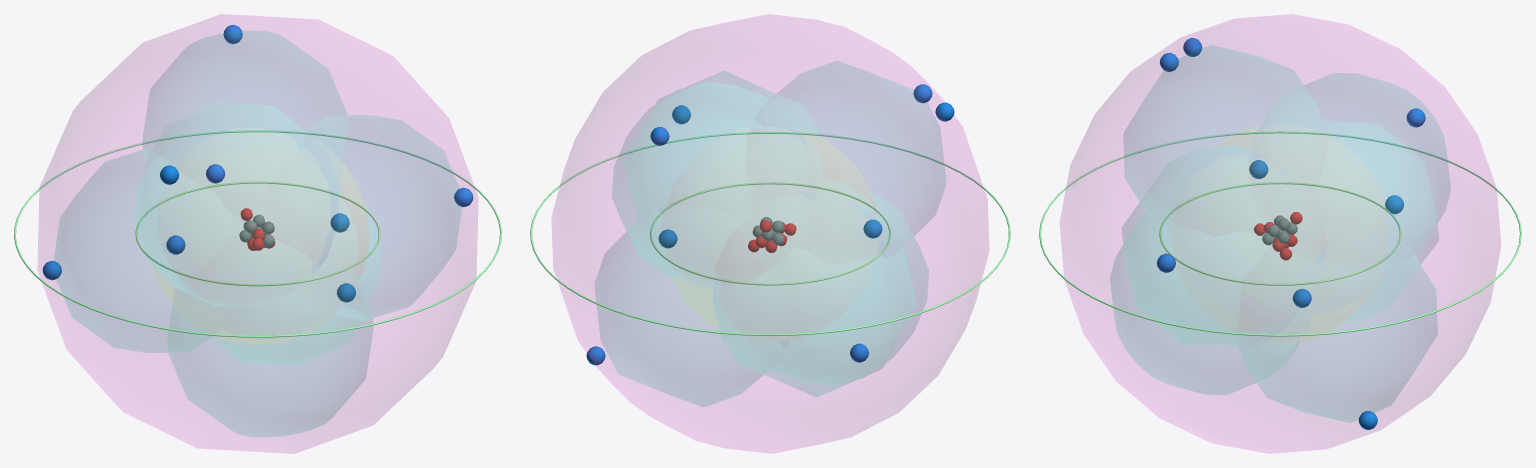
3 renders of one model, left to right at view 1: azimuth 30°, elevation 25°; view 2: azimuth 150°, elevation 25°; view 3: azimuth 270°, elevation 25°, orthographic.
Visible parts, largest first — view 1: Orbital_2s_0, Orbital_2p_0, Orbital_2p_2, Orbital_2p_1, Nivel_n2, Orbital_1s_0, Nivel_n1; view 2: Orbital_2s_0, Orbital_2p_1, Orbital_2p_2, Orbital_2p_0, Nivel_n2, Orbital_1s_0, Nivel_n1; view 3: Orbital_2s_0, Orbital_2p_1, Orbital_2p_2, Orbital_2p_0, Nivel_n2, Nivel_n1, Orbital_1s_0.
Boxes of the visible parts, <box> form: Orbital_2s_0: <box>37,14,478,453</box>; Orbital_2p_0: <box>54,115,461,352</box>; Orbital_2p_2: <box>143,31,372,436</box>; Orbital_2p_1: <box>134,103,338,306</box>; Nivel_n2: <box>14,130,501,337</box>; Orbital_1s_0: <box>152,162,368,344</box>; Nivel_n1: <box>135,181,380,286</box>; Orbital_2s_0: <box>551,14,989,453</box>; Orbital_2p_1: <box>595,61,945,406</box>; Orbital_2p_2: <box>612,82,928,377</box>; Orbital_2p_0: <box>655,71,916,396</box>; Nivel_n2: <box>530,132,1010,335</box>; Orbital_1s_0: <box>672,131,876,329</box>; Nivel_n1: <box>650,182,890,285</box>; Orbital_2s_0: <box>1060,14,1500,453</box>; Orbital_2p_1: <box>1123,45,1437,422</box>; Orbital_2p_2: <box>1110,73,1450,394</box>; Orbital_2p_0: <box>1122,145,1438,347</box>; Nivel_n2: <box>1039,131,1521,336</box>; Nivel_n1: <box>1159,182,1401,285</box>; Orbital_1s_0: <box>1218,127,1382,342</box>.
Bounding box in the file's own units: 0.6024 × 0.5519 × 0.6024.
